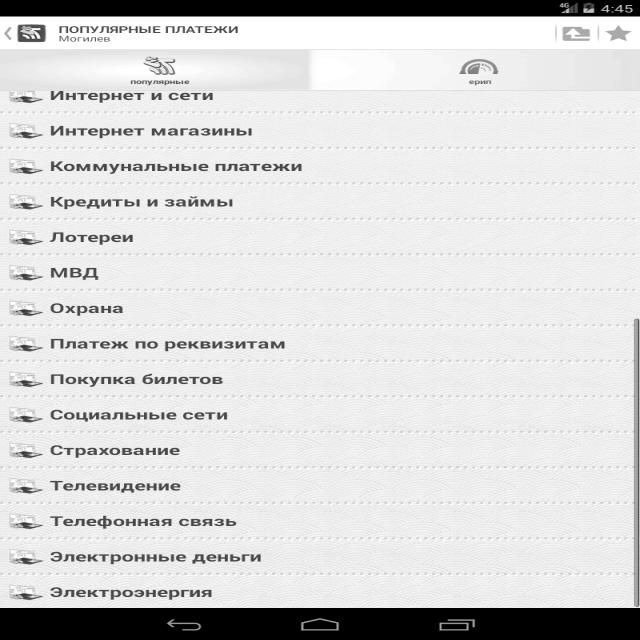ImageButton: (543, 24, 602, 44), (611, 17, 624, 53)
TextView: (42, 332, 300, 356), (46, 155, 315, 178), (32, 506, 250, 530), (49, 122, 270, 145), (49, 188, 250, 212), (42, 544, 275, 564), (50, 87, 254, 109), (49, 476, 224, 501), (54, 23, 242, 46), (53, 409, 237, 426), (41, 584, 212, 600), (50, 441, 219, 457), (44, 372, 232, 386), (53, 227, 153, 251), (42, 269, 134, 293), (42, 302, 154, 317)
